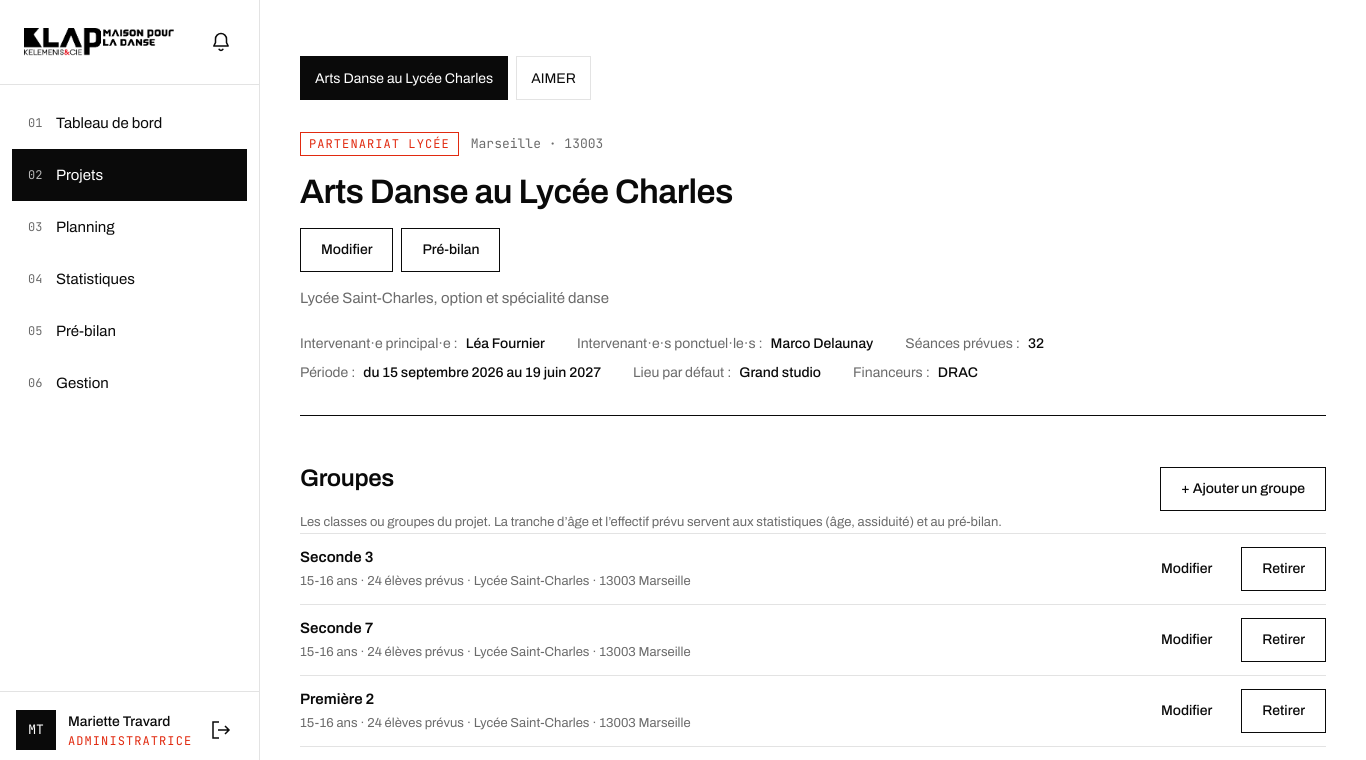
Détail d’un projet › recharge quand on change de projet par les onglets
Step 1. Click the link "AIMER" → (554, 78), box [516,56,591,100]
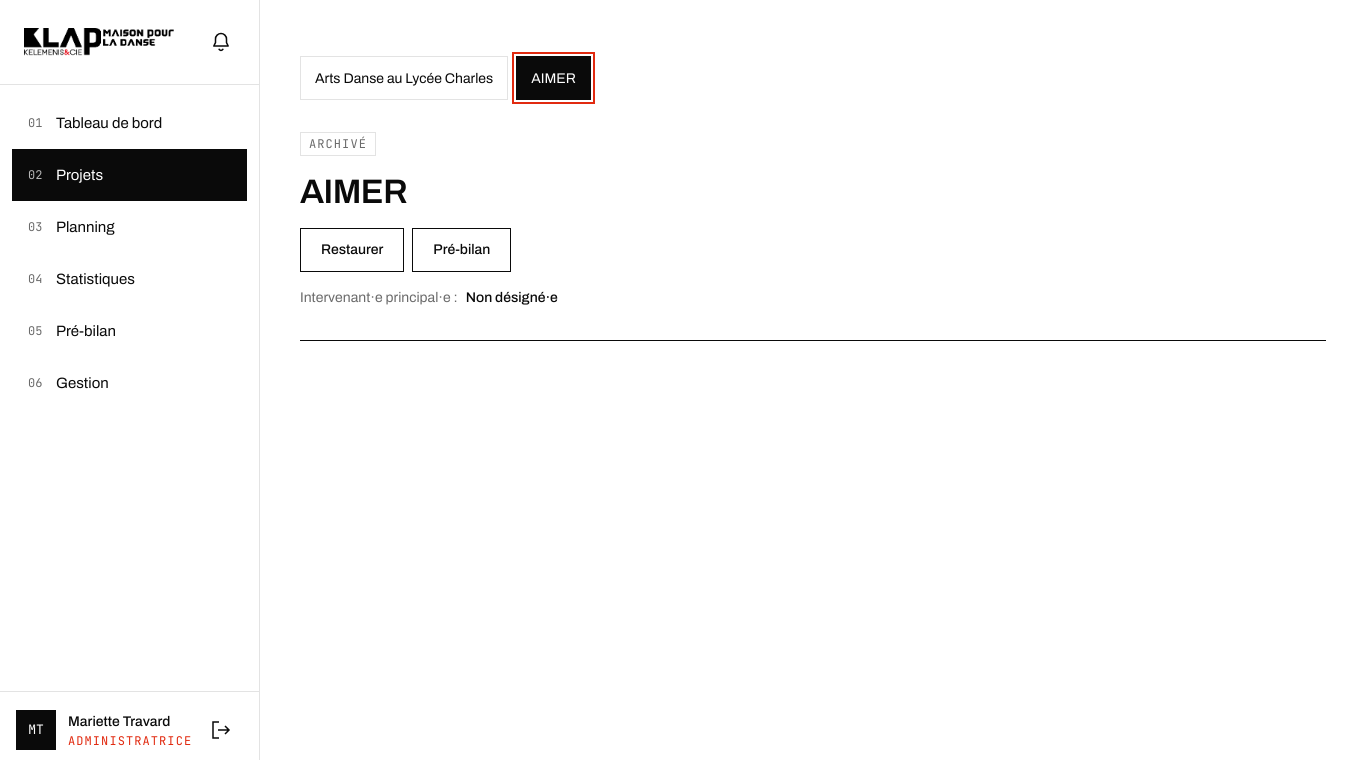
Now the heading "AIMER" is shown, box [300,173,407,210]
